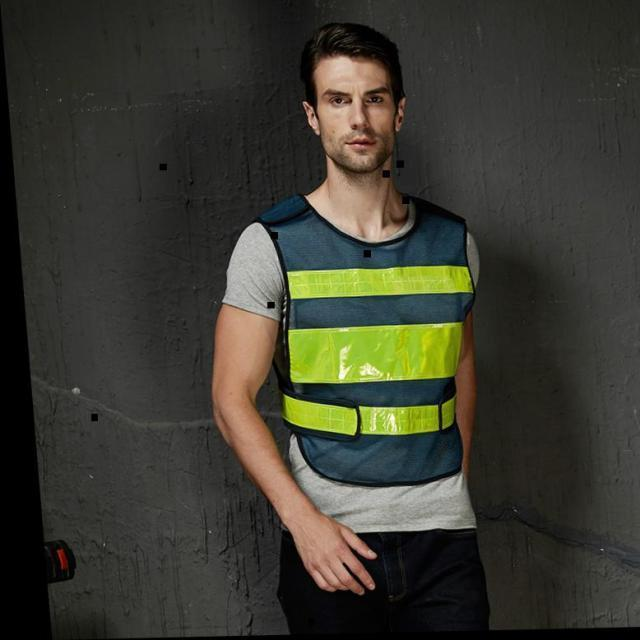safety_helmet: (254, 197, 480, 488)
